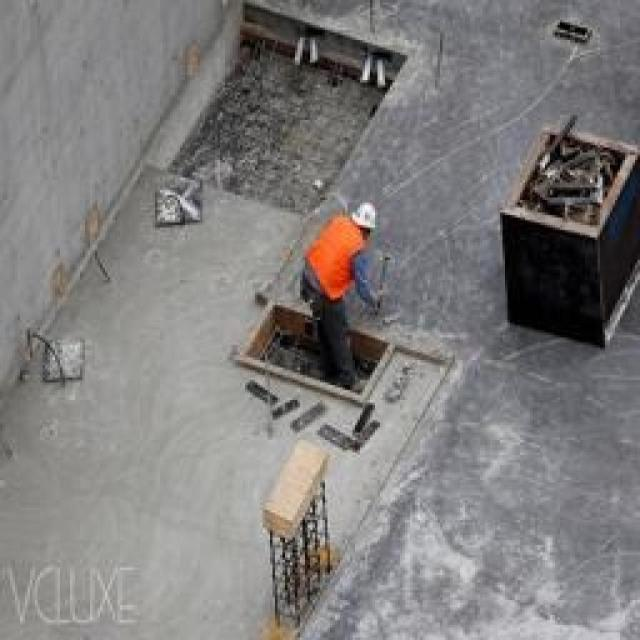Helmet: (352, 184, 394, 249)
Safety Vest: (302, 200, 367, 350)
